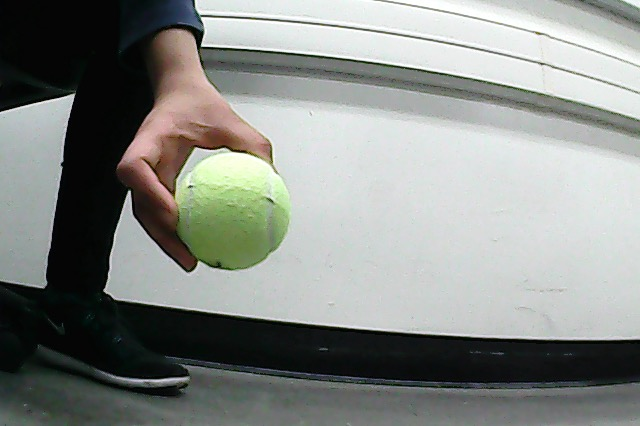ball: (175, 153, 291, 270)
